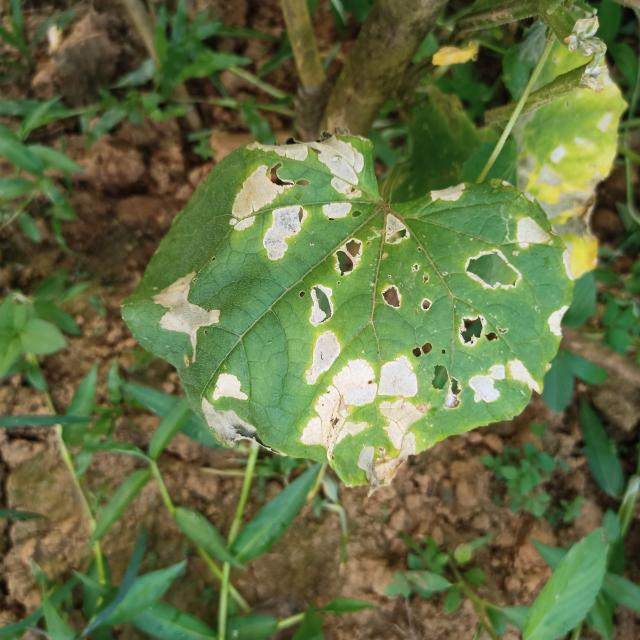disease_cucumber: (145, 135, 536, 455)
